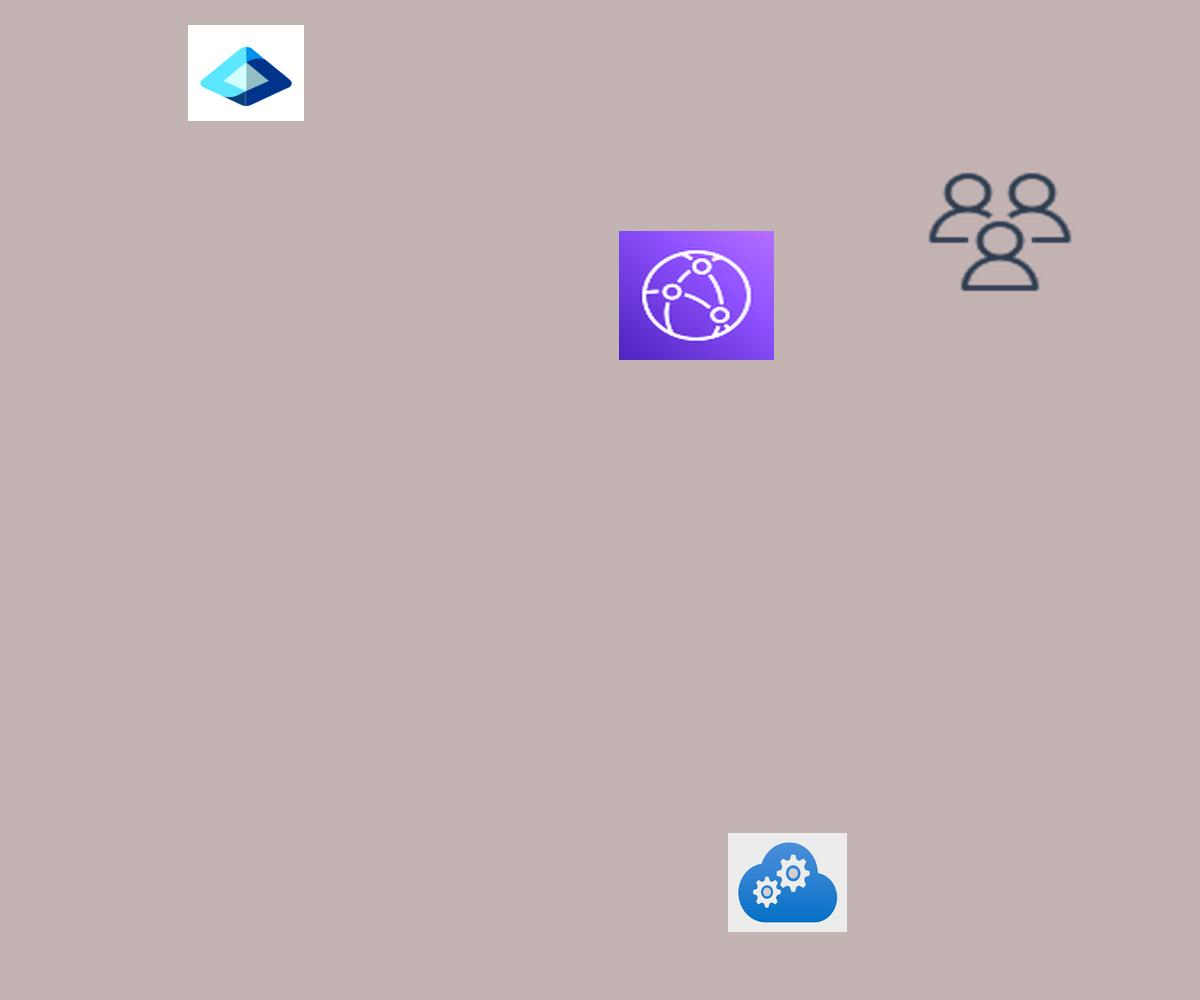AWS-CloudFront: (619, 231, 774, 360)
AWS-Res_Users: (923, 168, 1077, 296)
Azure_cloud_services: (728, 833, 847, 932)
Azure_microsoft_entra: (188, 25, 304, 121)
